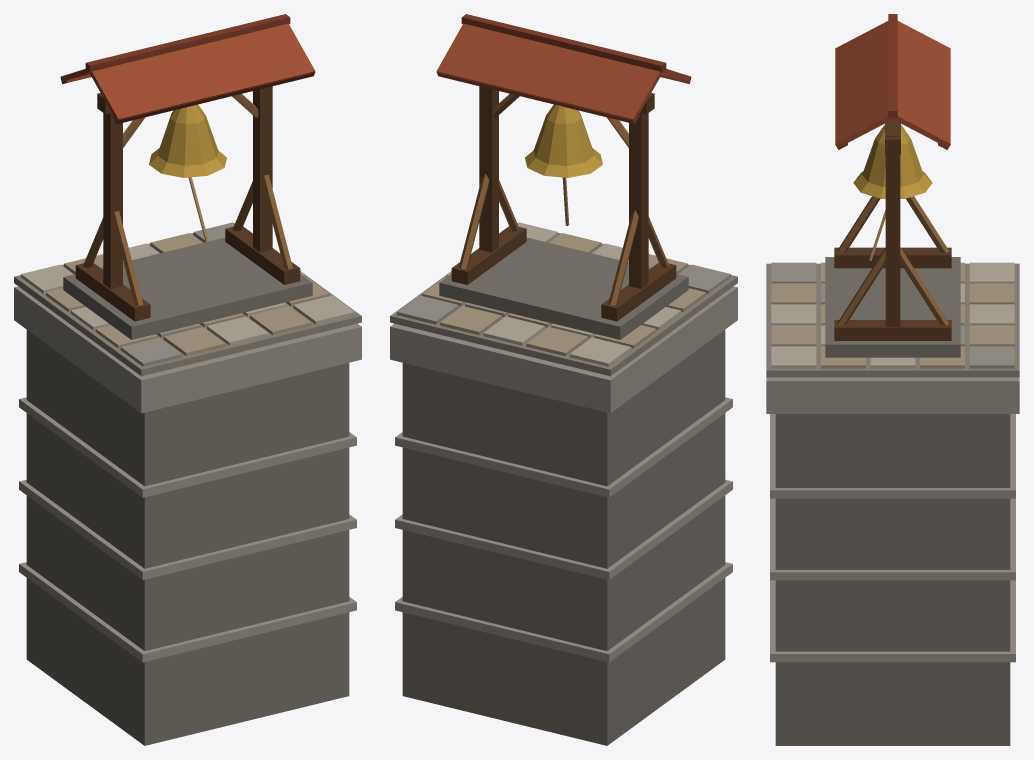
File: decor_bell_frame.glb
3 renders of one model, left to right at view 1: azimuth 30°, elevation 25°; view 2: azimuth 150°, elevation 25°; view 3: azimuth 270°, elevation 25°, orthographic.
Parts seen in each view (by area): view 1: decor_bell_frame; view 2: decor_bell_frame; view 3: decor_bell_frame.
Boxes of the visible parts, <box> form: decor_bell_frame: <box>14,14,361,745</box>; decor_bell_frame: <box>390,14,737,745</box>; decor_bell_frame: <box>766,14,1019,745</box>.
Bounding box in the file's own units: 2.8 × 7.74 × 2.8.
